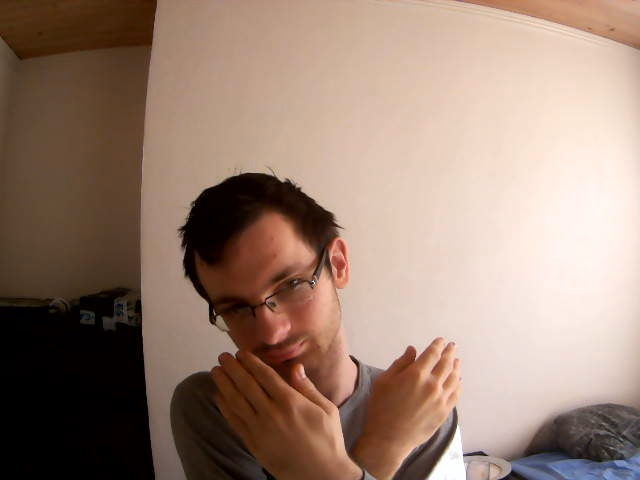butterfly: (209, 342, 468, 454)
